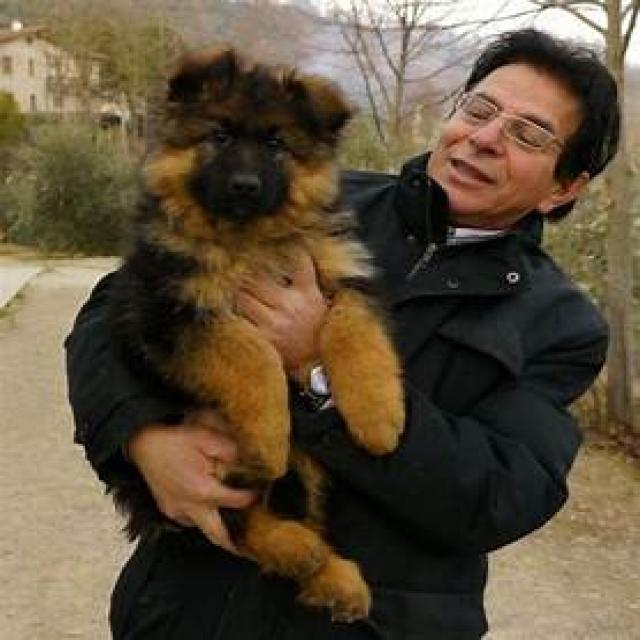KOPEK: (130, 38, 401, 628)
